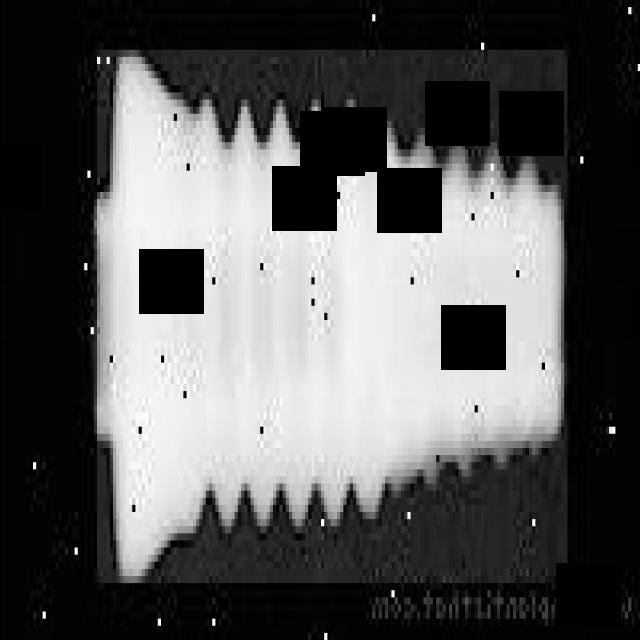Retained root: (96, 50, 566, 583)
